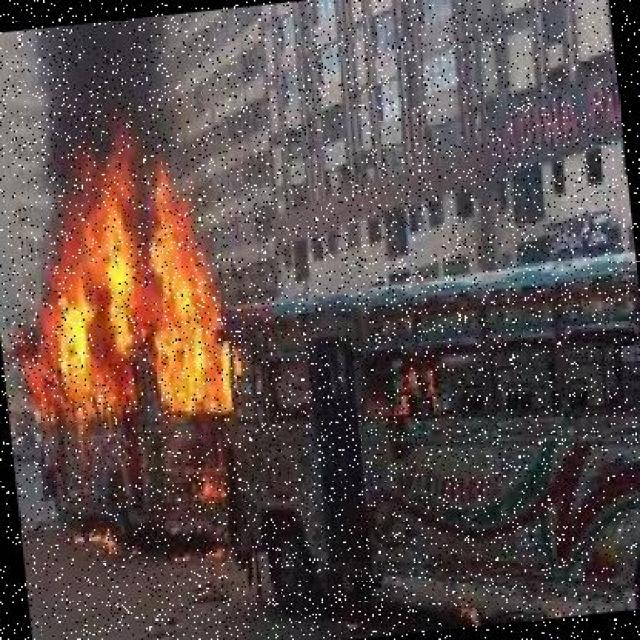fire: (0, 120, 258, 464), (363, 339, 454, 443), (52, 484, 137, 588), (171, 448, 240, 528)
